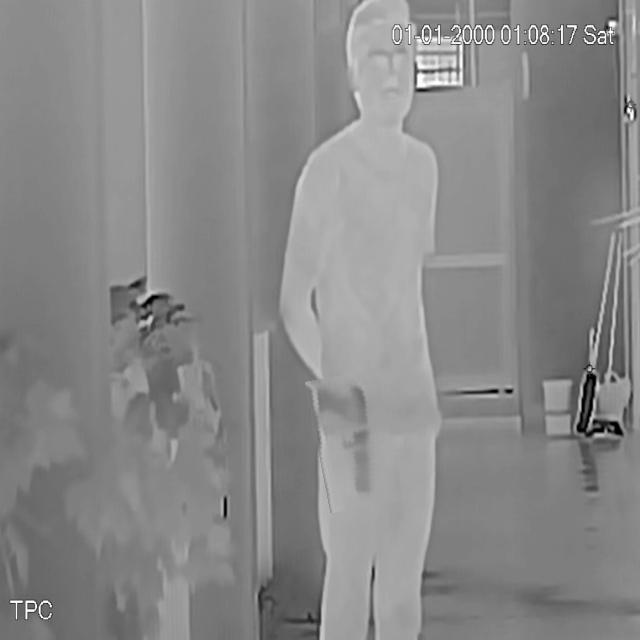Weapon: (311, 371, 397, 511)
